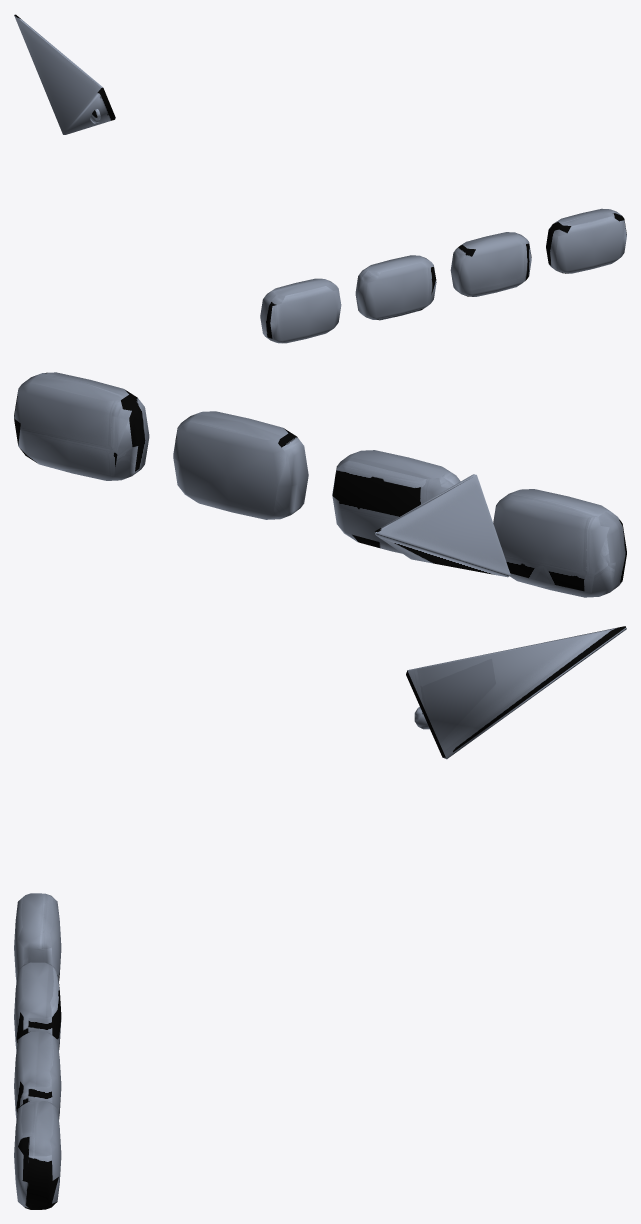
The model's file is Estela_GuanteDer_Acero.fbx.
3 renders of one model, top to bottom at view 1: azimuth 30°, elevation 25°; view 2: azimuth 150°, elevation 25°; view 3: azimuth 270°, elevation 25°, orthographic. The views are drawn at different scales.
Visible parts, largest first — view 1: Estela_GuanteDer_Acero; view 2: Estela_GuanteDer_Acero; view 3: Estela_GuanteDer_Acero.
Part boxes in pixels (<box>): Estela_GuanteDer_Acero: <box>14,14,626,343</box>; Estela_GuanteDer_Acero: <box>14,372,626,597</box>; Estela_GuanteDer_Acero: <box>14,626,626,1209</box>.
Size of the model in its own units: 1.1 by 0.4914 by 0.9223.
